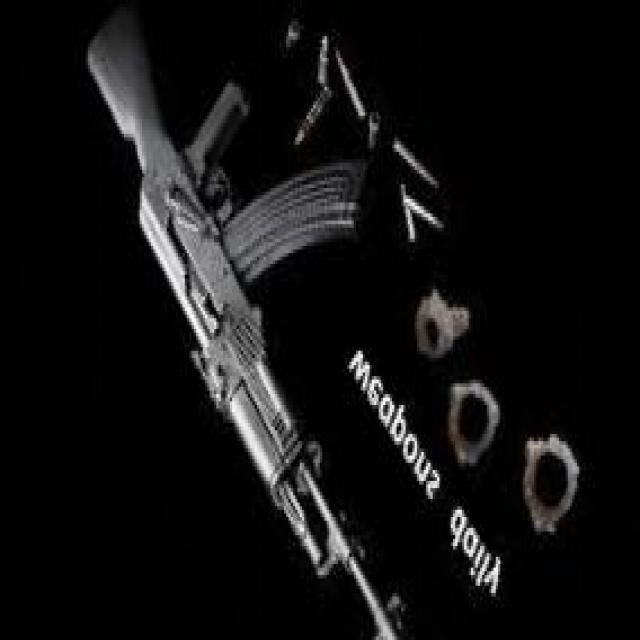weapon: (86, 13, 412, 640)
